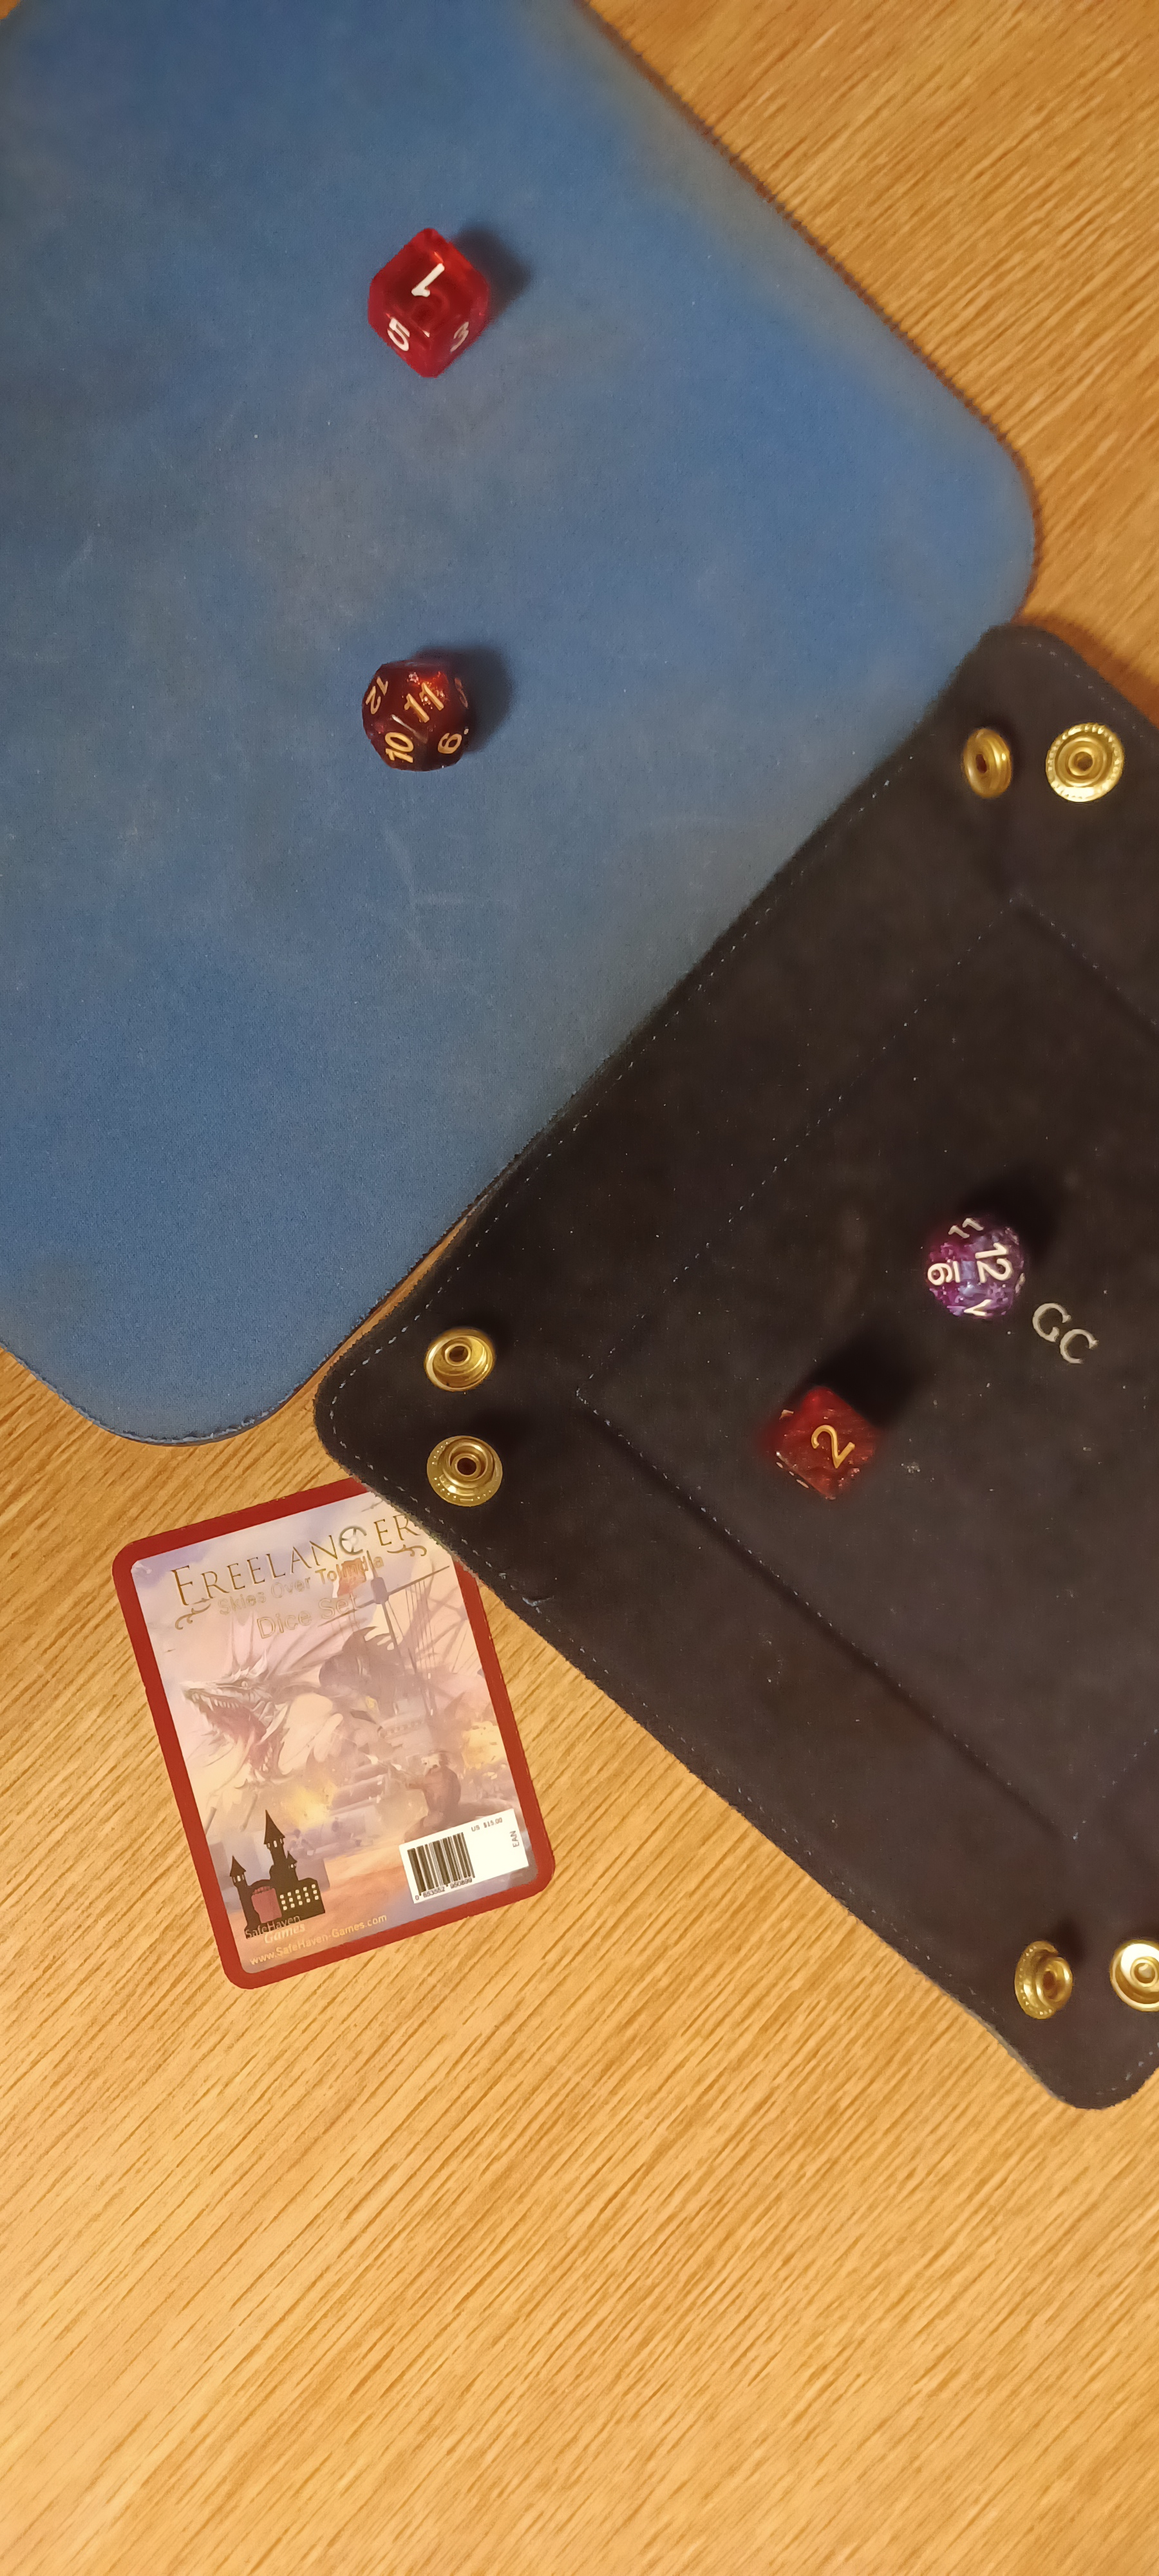eleven: (345, 632, 502, 784)
one: (343, 215, 525, 406)
twelve: (895, 1189, 1085, 1345)
two: (744, 1349, 924, 1523)
